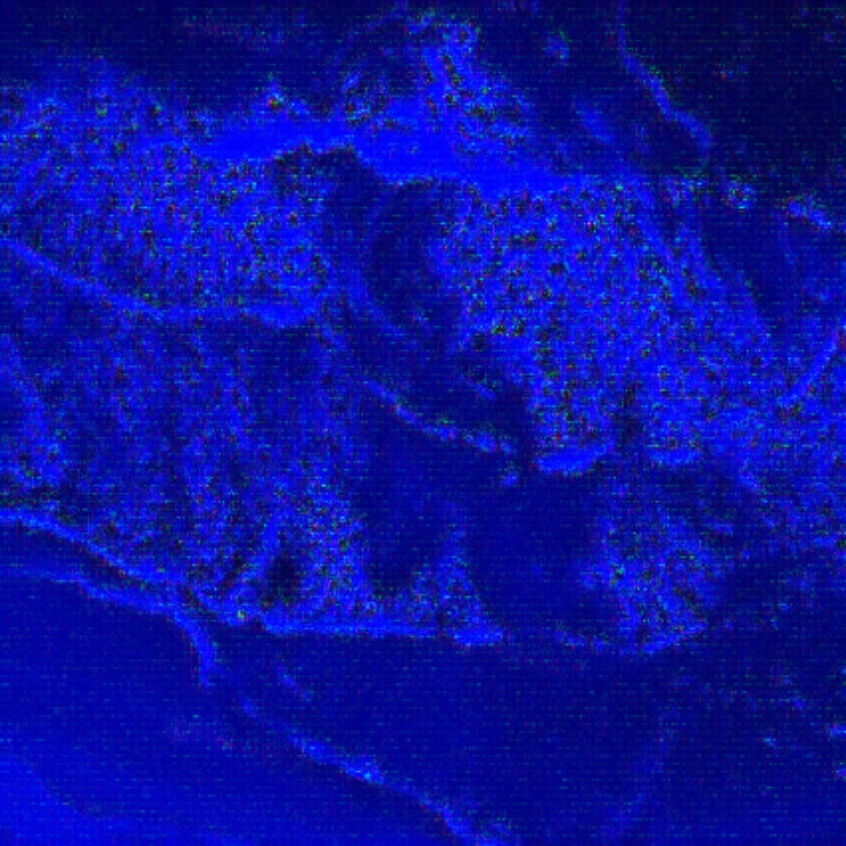rip_current: (242, 57, 640, 680)
